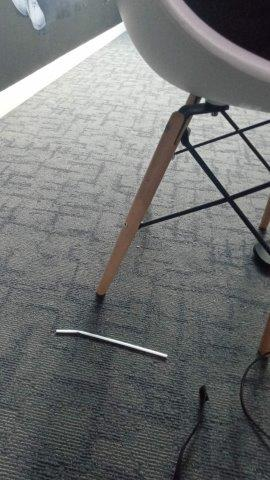sedotan: (56, 329, 167, 358)
